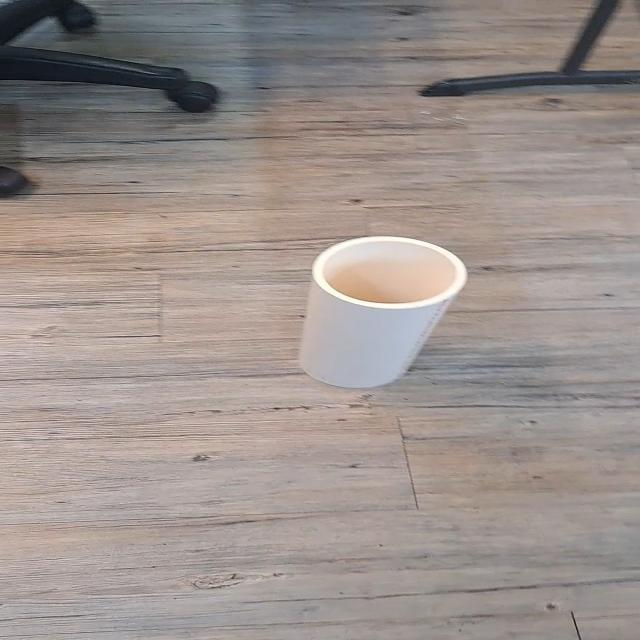CORAL: (247, 210, 492, 407)
